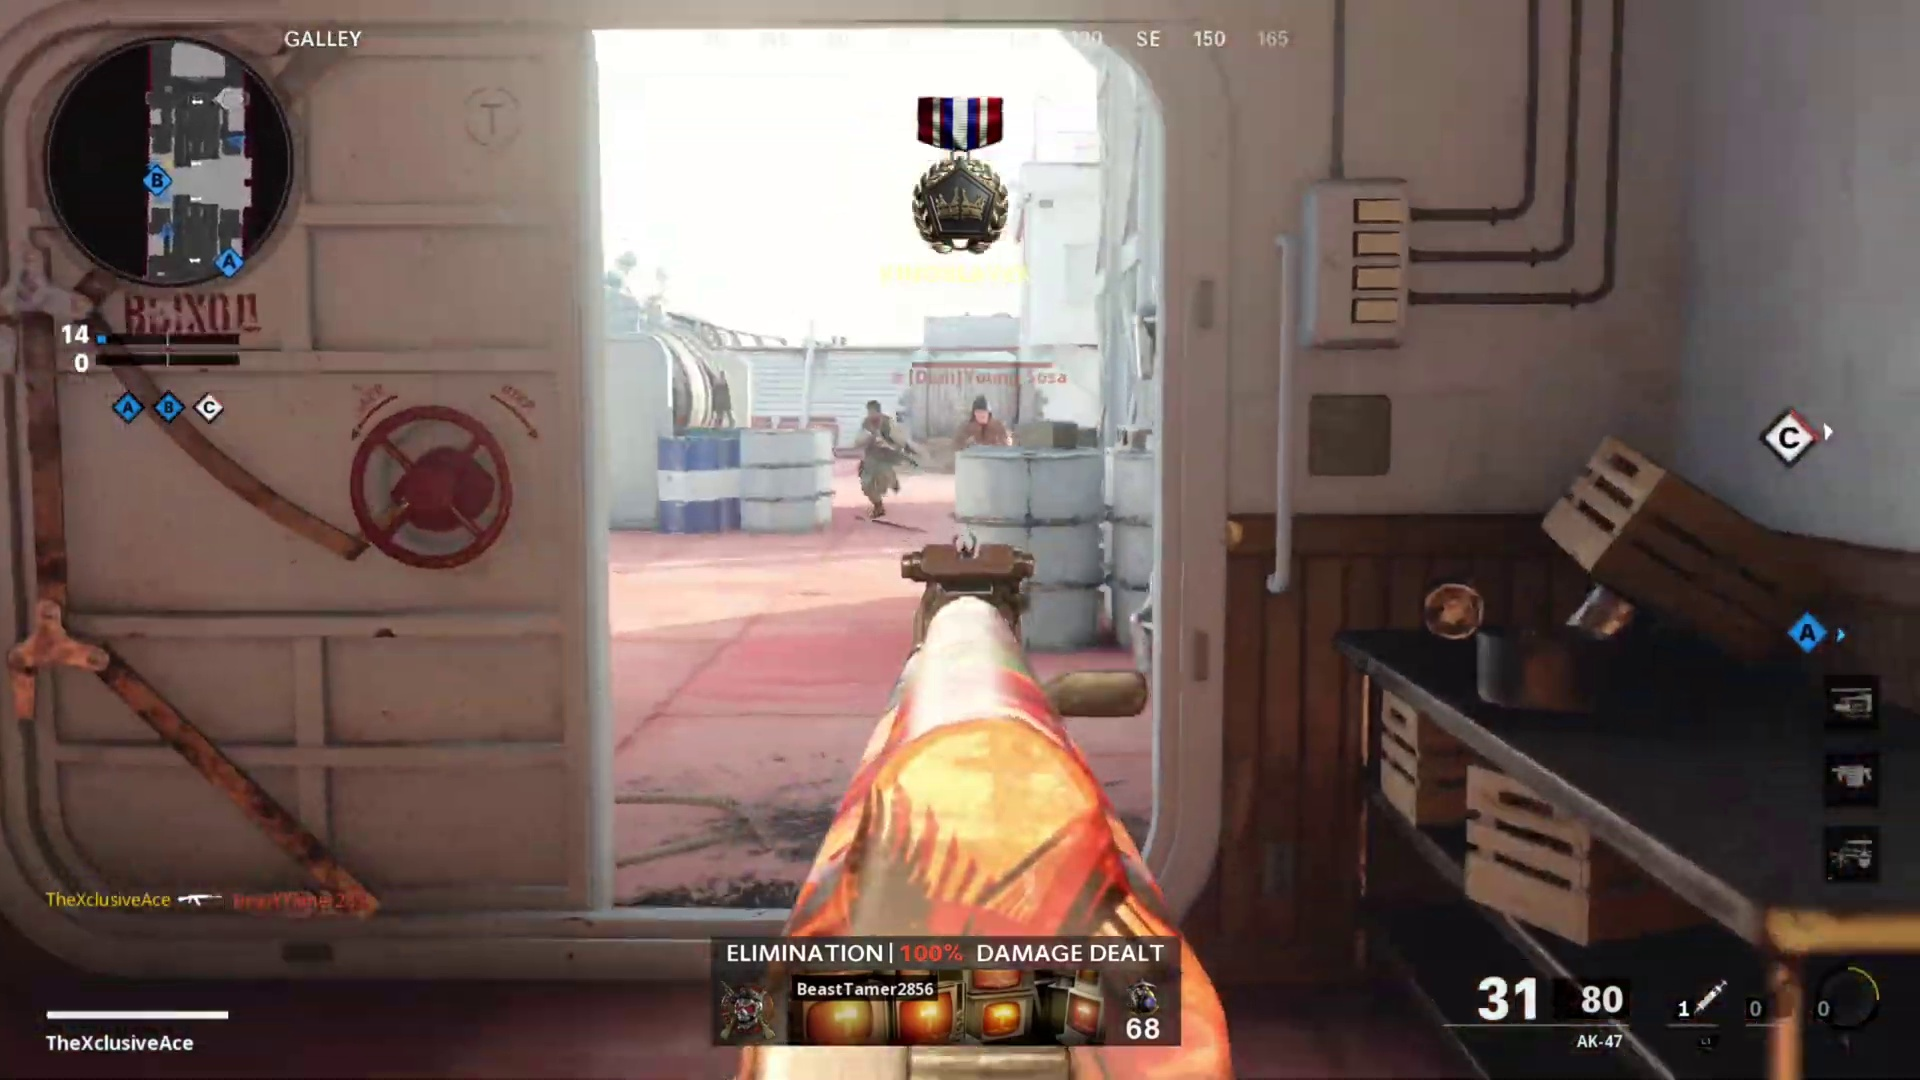head: (862, 398, 886, 428), (969, 397, 991, 427)
person: (852, 397, 915, 521), (950, 394, 1013, 449)
